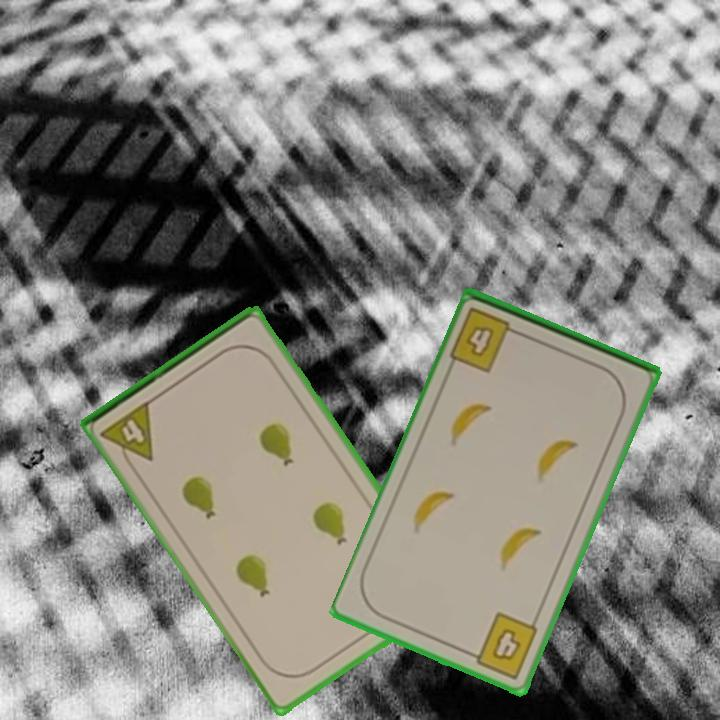4b: (447, 303, 526, 376), (464, 608, 541, 682)
4p: (97, 397, 157, 474)
